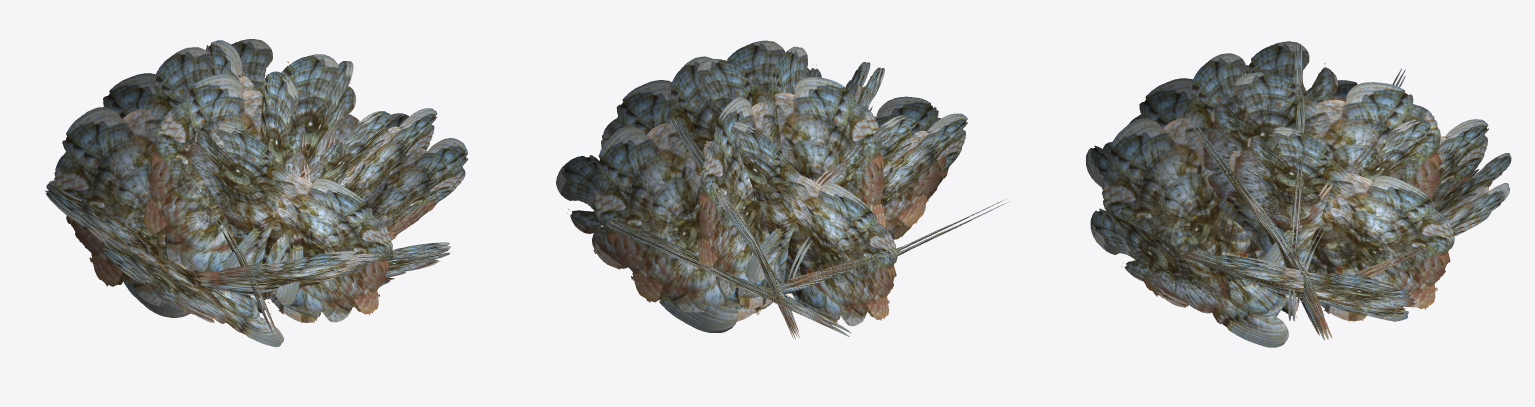
The model's file is RippleSponge_LOD2.fbx.
3 renders of one model, left to right at view 1: azimuth 30°, elevation 25°; view 2: azimuth 150°, elevation 25°; view 3: azimuth 270°, elevation 25°, orthographic.
Parts seen in each view (by area): view 1: RippleSponge_low; view 2: RippleSponge_low; view 3: RippleSponge_low.
Part boxes in pixels (x1,y1,x2,y2): RippleSponge_low: (45,39,468,346); RippleSponge_low: (556,40,1009,339); RippleSponge_low: (1086,41,1511,347).
Size of the model in its own units: 43.77 by 31.18 by 43.12.
